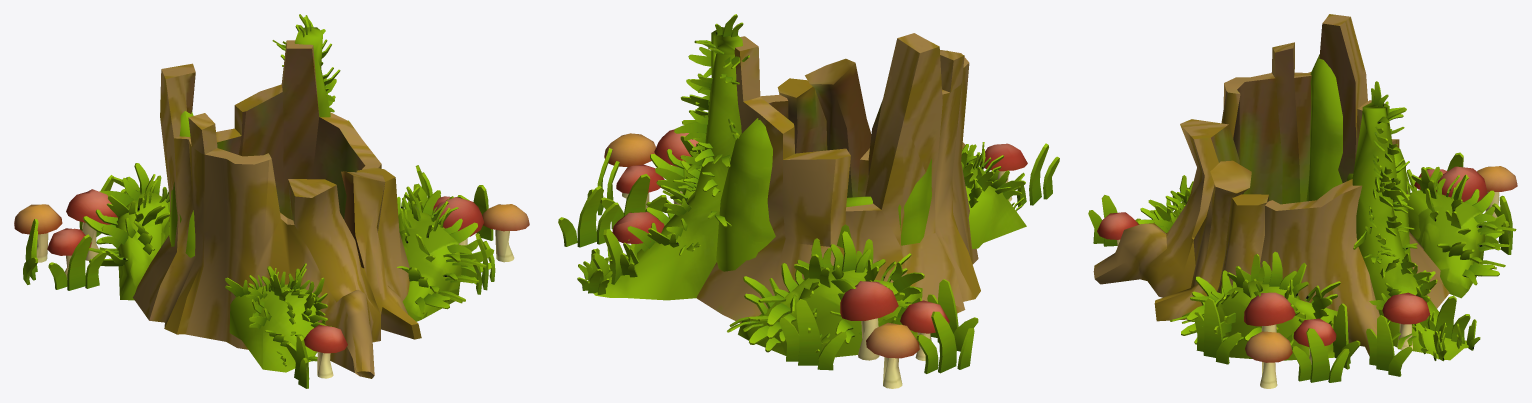
The model's file is mossy-stump.glb.
The picture shows the model from 3 angles, left to right: view 1: azimuth 30°, elevation 25°; view 2: azimuth 150°, elevation 25°; view 3: azimuth 270°, elevation 25°; orthographic projection. The views are drawn at different scales.
Parts seen in each view (by area): view 1: Object_5, Object_13, Object_7, Object_267, Object_233; view 2: Object_5, Object_13, Object_7, Object_267, Object_233; view 3: Object_5, Object_13, Object_7, Object_267, Object_233.
Boxes of the visible parts, <box> form: Object_5: <box>133,40,421,378</box>; Object_13: <box>23,14,495,388</box>; Object_7: <box>116,27,461,372</box>; Object_267: <box>14,189,529,353</box>; Object_233: <box>36,222,514,378</box>; Object_5: <box>696,33,980,323</box>; Object_13: <box>558,14,1059,373</box>; Object_7: <box>587,27,1026,357</box>; Object_267: <box>604,129,1027,358</box>; Object_233: <box>622,166,1012,388</box>; Object_5: <box>1093,14,1449,355</box>; Object_13: <box>1088,81,1516,382</box>; Object_7: <box>1168,54,1485,360</box>; Object_267: <box>1097,166,1517,362</box>; Object_233: <box>1115,191,1499,388</box>.
Bounding box in the file's own units: 225 × 128 × 208.
5 materials, 5 textured.
